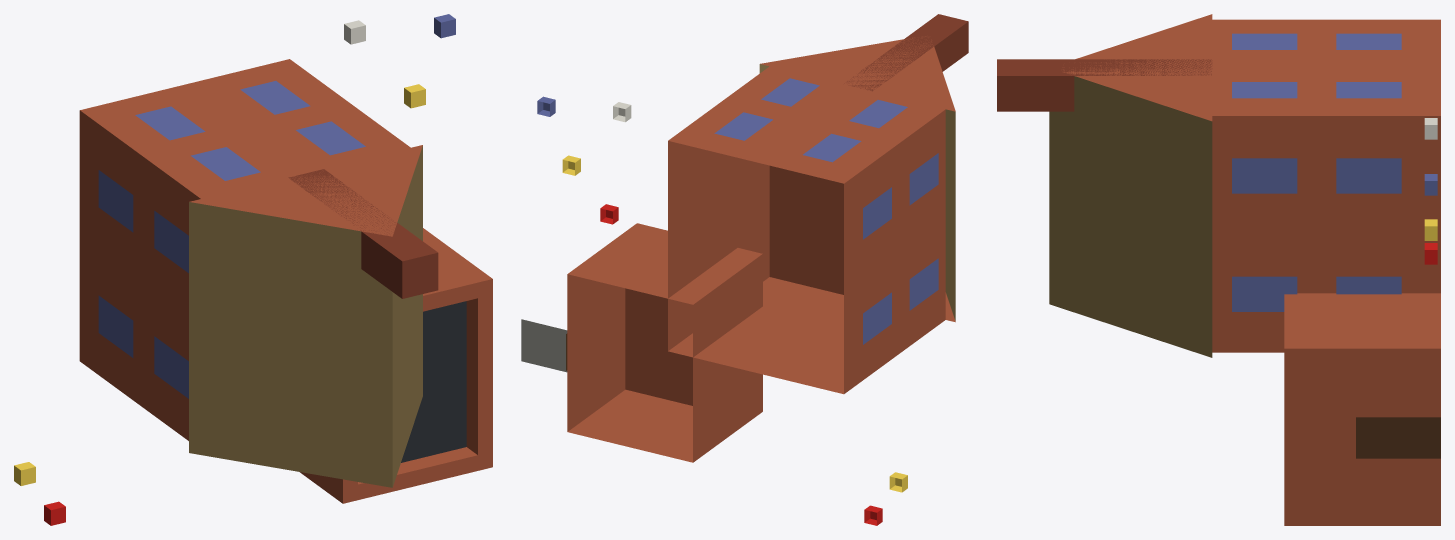
The model's file is complete.glb.
3 views of the same model, side by side, from view 1: azimuth 30°, elevation 25°; view 2: azimuth 150°, elevation 25°; view 3: azimuth 270°, elevation 25° (orthographic). The views are drawn at different scales.
Visible parts, largest first — view 1: done; view 2: done; view 3: done.
Part boxes in pixels (box(x1,y1,x2,y2)): done: box(14, 14, 492, 525); done: box(521, 14, 968, 525); done: box(997, 14, 1440, 525).
Size of the model in its own units: 15.15 by 13.5 by 13.6.
